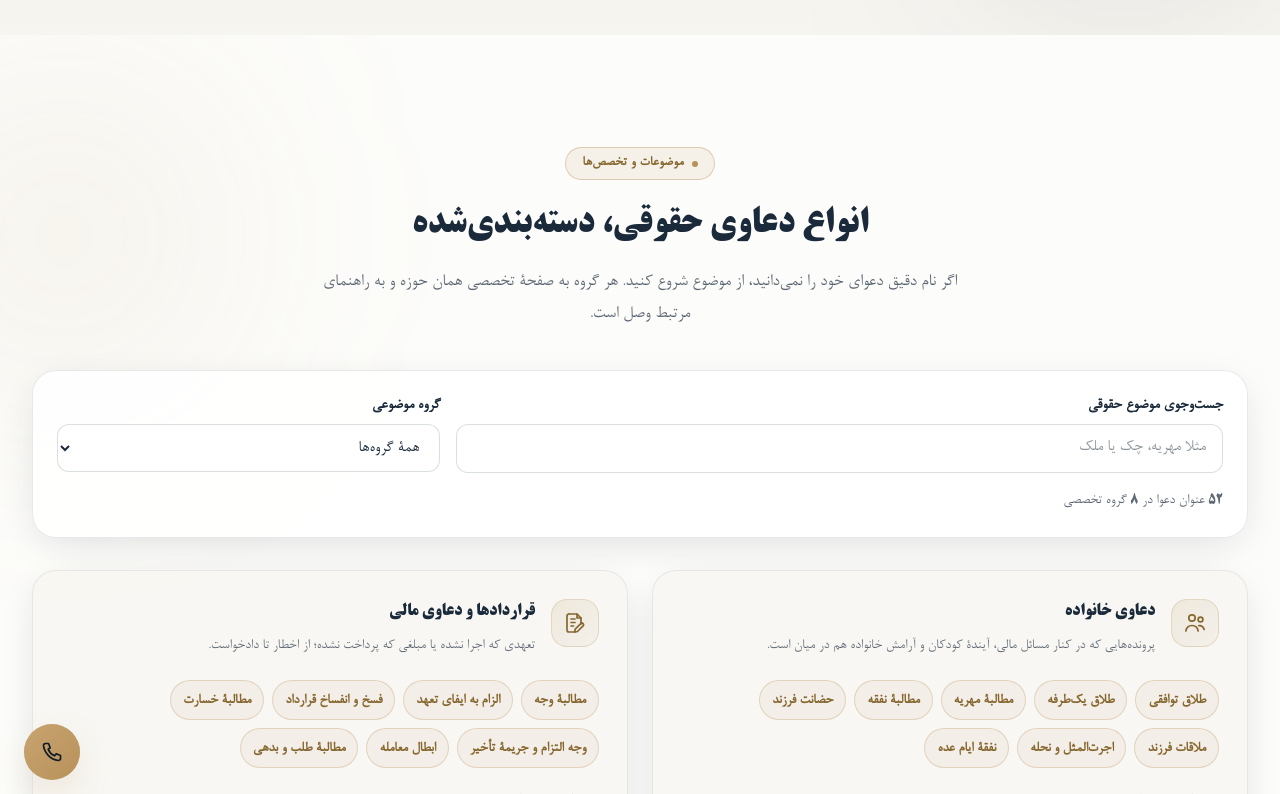
جست‌وجوی نقشۀ دعاوی › گروه و جست‌وجو را ترکیب می‌کند و حالت بی‌نتیجه قابل بازگردانی است
(page scrolled)
Step 1. Select "دعاوی کیفری" in the dropdown labelled "گروه موضوعی" → (249, 448), box left=57, top=424, right=440, bottom=472
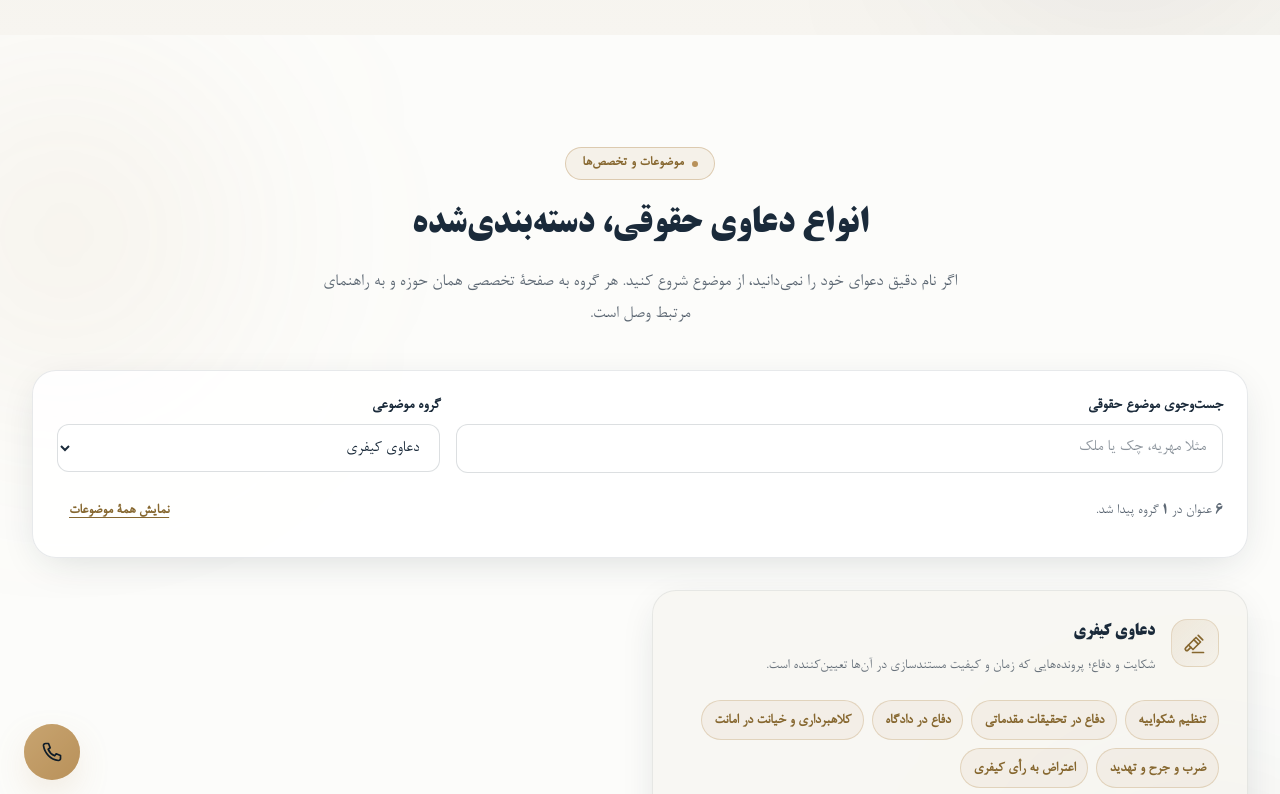
Check: the heading "دعاوی کیفری" is shown, box left=1073, top=623, right=1155, bottom=640
Check: the heading "دعاوی خانواده" is not shown
Step 2. Type "عبارت ناموجود" into the search field → (840, 449), box left=456, top=424, right=1223, bottom=473
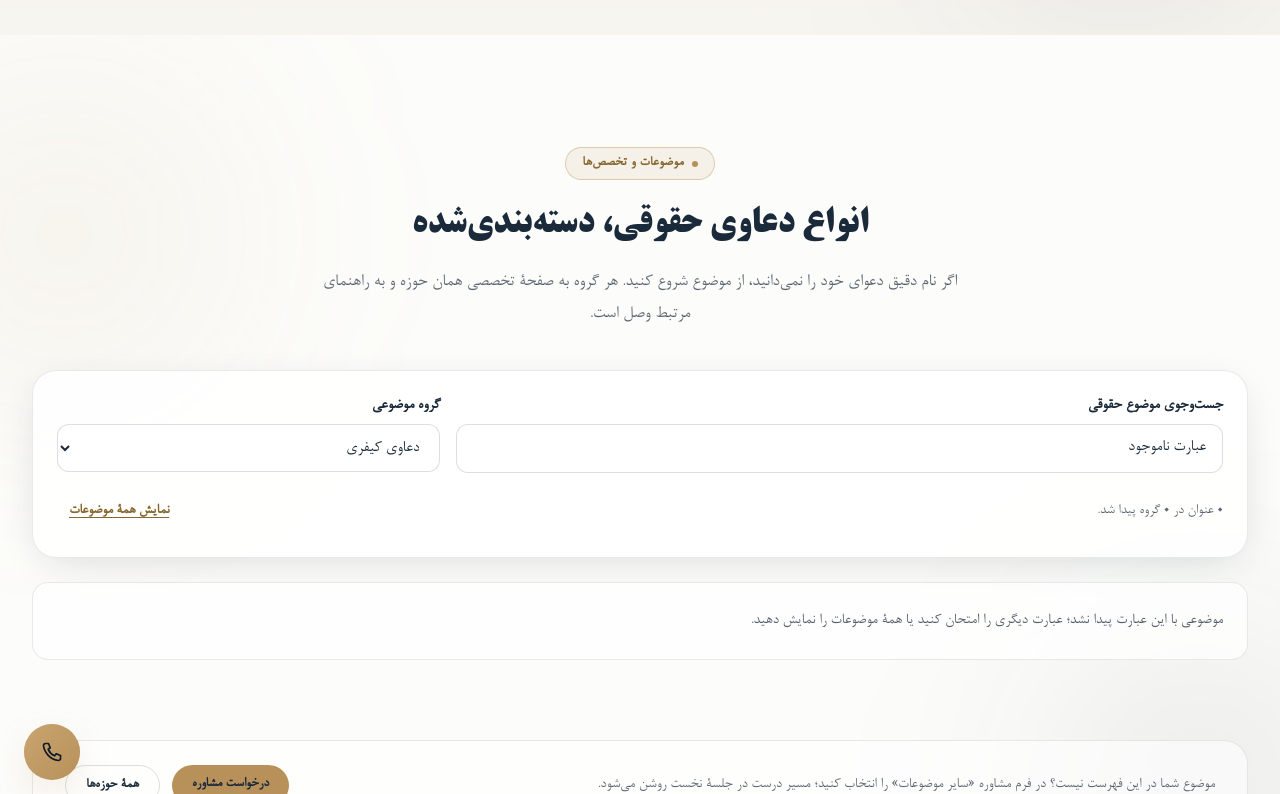
Check: the text "موضوعی با این عبارت پیدا نشد" is shown, box left=751, top=612, right=1223, bottom=629
Step 3. Click the button "نمایش همۀ موضوعات" → (119, 511), box left=57, top=489, right=181, bottom=533
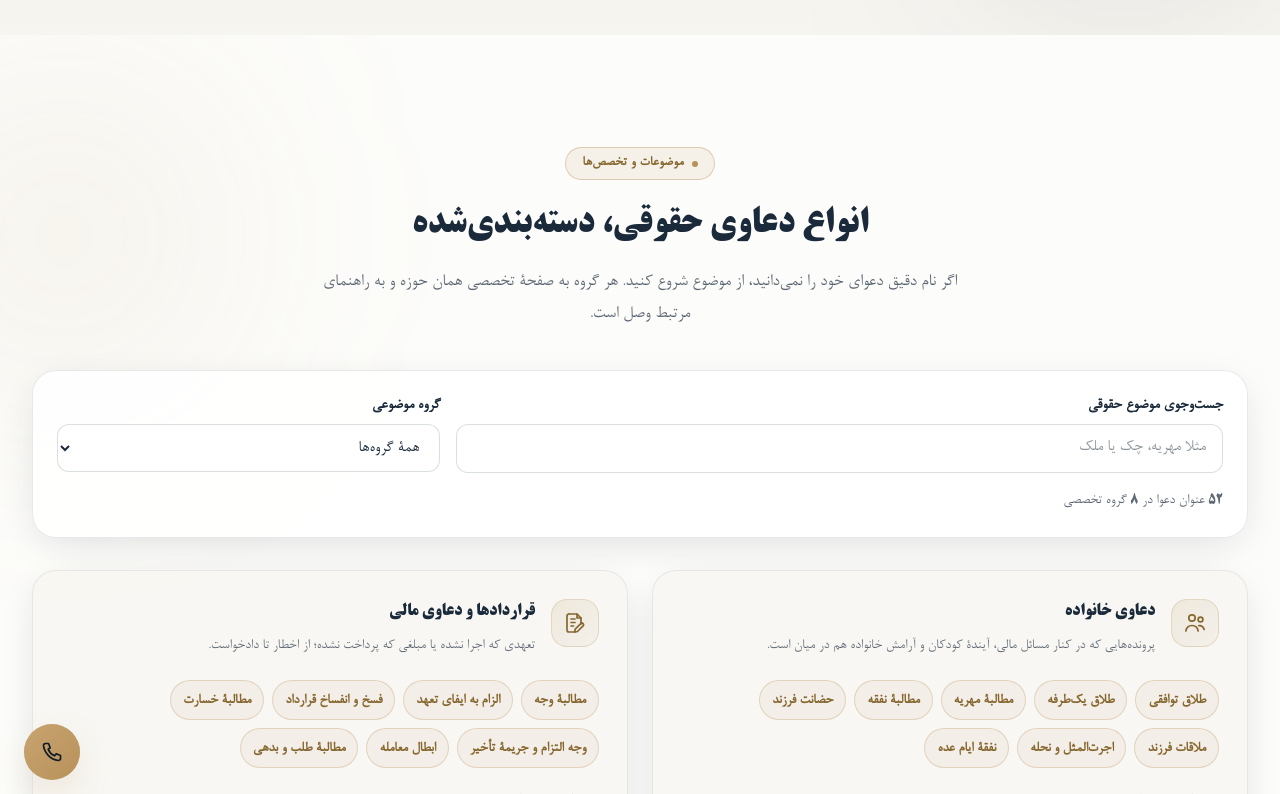
Check: the heading "دعاوی خانواده" is shown, box left=1065, top=603, right=1155, bottom=620
Check: the search field is empty, box left=456, top=424, right=1223, bottom=473
